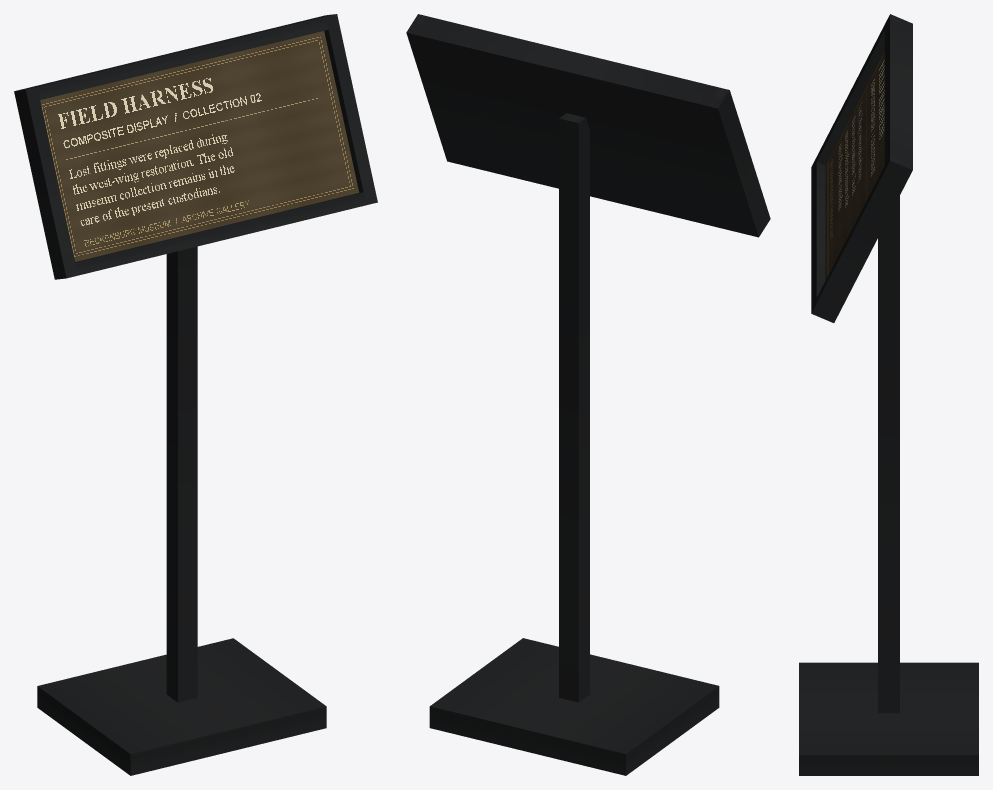
File: level_castle_armour_label.glb
3 renders of one model, left to right at view 1: azimuth 30°, elevation 25°; view 2: azimuth 150°, elevation 25°; view 3: azimuth 270°, elevation 25°, orthographic. The views are drawn at different scales.
Visible parts, largest first — view 1: Inclined label backing; view 2: Inclined label backing; view 3: Inclined label backing.
Boxes of the visible parts, bbox=[...] form: Inclined label backing: bbox=[14, 14, 377, 775]; Inclined label backing: bbox=[406, 14, 770, 775]; Inclined label backing: bbox=[799, 14, 978, 775].
Size of the model in its own units: 0.54 by 1.1 by 0.28.
Materials: 2 (2 with a texture image).
